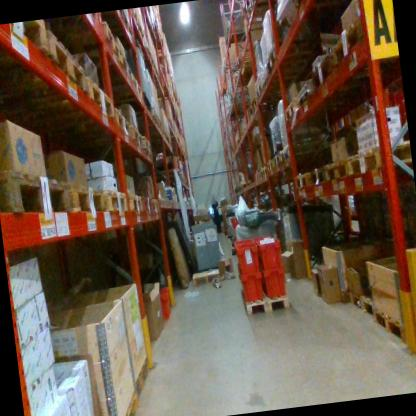pallet: (13, 26, 90, 100), (321, 0, 392, 75), (0, 161, 74, 229), (69, 19, 128, 73), (345, 138, 412, 184), (287, 71, 346, 118), (0, 20, 52, 73), (298, 43, 346, 100), (240, 276, 295, 319), (260, 37, 322, 75), (252, 71, 307, 110), (69, 168, 108, 222), (279, 89, 332, 128), (83, 69, 118, 124), (371, 300, 406, 349), (102, 177, 132, 221), (280, 137, 323, 166), (128, 354, 156, 395), (321, 153, 354, 187), (244, 0, 279, 32), (233, 41, 265, 71), (345, 283, 375, 314), (108, 10, 136, 43), (190, 263, 225, 288), (115, 384, 142, 416), (125, 184, 145, 221), (133, 75, 151, 108), (120, 50, 139, 81), (115, 105, 131, 140), (294, 166, 311, 195), (125, 123, 142, 150), (140, 130, 155, 159), (309, 168, 325, 192), (141, 189, 154, 218), (141, 87, 154, 114), (250, 166, 264, 189), (149, 191, 161, 216), (273, 142, 284, 168), (260, 159, 270, 183), (152, 109, 162, 132), (240, 0, 253, 14), (266, 156, 274, 176)
small_load_carrier: (257, 236, 288, 276), (261, 263, 291, 301), (236, 267, 265, 304), (234, 240, 261, 279), (154, 279, 175, 322), (228, 216, 241, 229)
